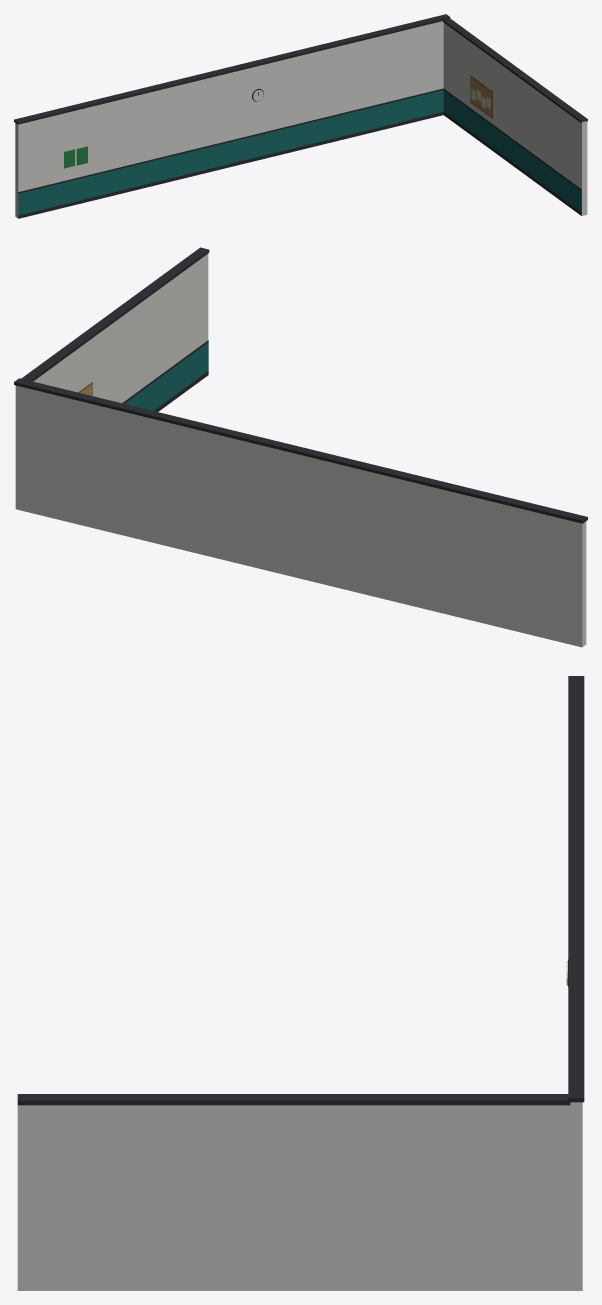
Rendered from building_room_bigshop.d2750f52540d.glb.
3 views of the same model, one above another, from view 1: azimuth 30°, elevation 25°; view 2: azimuth 150°, elevation 25°; view 3: azimuth 270°, elevation 25° (orthographic). The views are drawn at different scales.
Parts seen in each view (by area): view 1: body; view 2: body; view 3: body.
Part boxes in pixels (x1,y1,x2,y2): body: (14, 14, 587, 218); body: (14, 247, 587, 647); body: (17, 676, 584, 1290).
Bounding box in the file's own units: 16.26 × 3.48 × 9.23.
